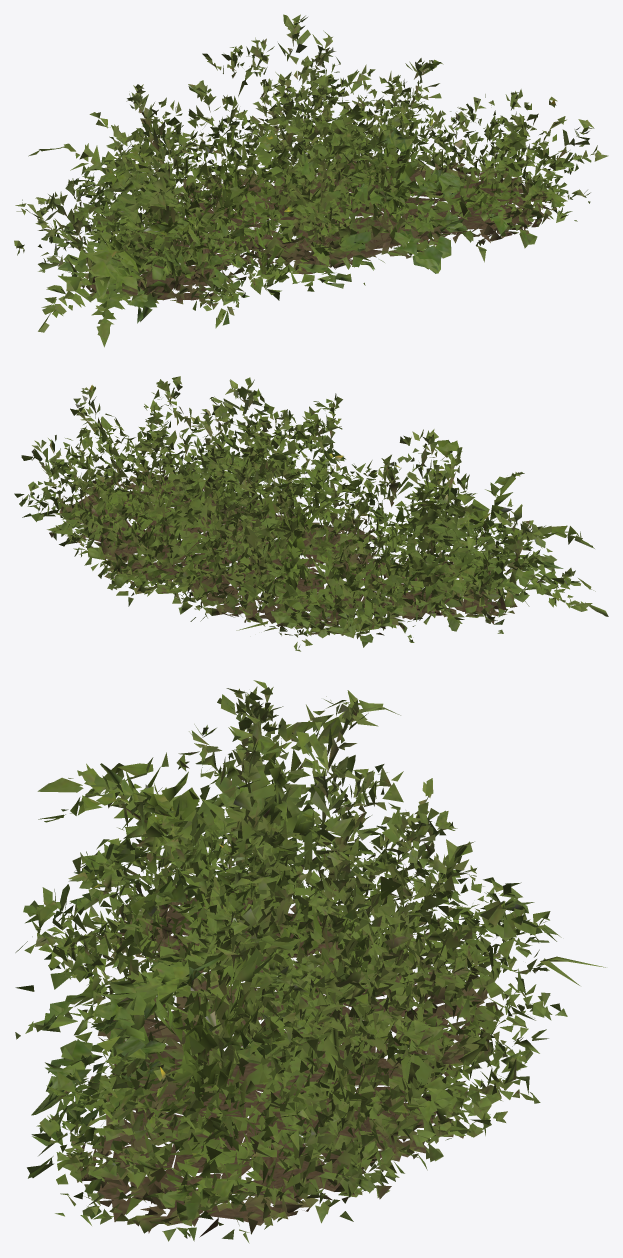
The model's file is shrub_lod2.glb.
3 views of the same model, one above another, from view 1: azimuth 30°, elevation 25°; view 2: azimuth 150°, elevation 25°; view 3: azimuth 270°, elevation 25° (orthographic). The views are drawn at different scales.
Parts seen in each view (by area): view 1: Mesh_0; view 2: Mesh_0; view 3: Mesh_0.
Part boxes in pixels (x1,y1,x2,y2): Mesh_0: (14,14,608,347); Mesh_0: (14,376,608,651); Mesh_0: (15,680,605,1243).
Size of the model in its own units: 1.83 by 0.66 by 1.07.
1 material, 1 textured.
